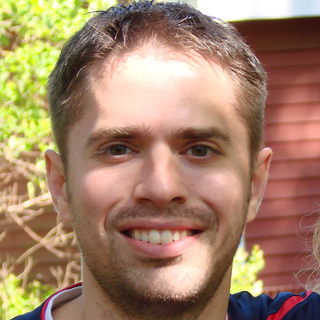eye: (176, 139, 226, 164), (96, 139, 143, 164)
